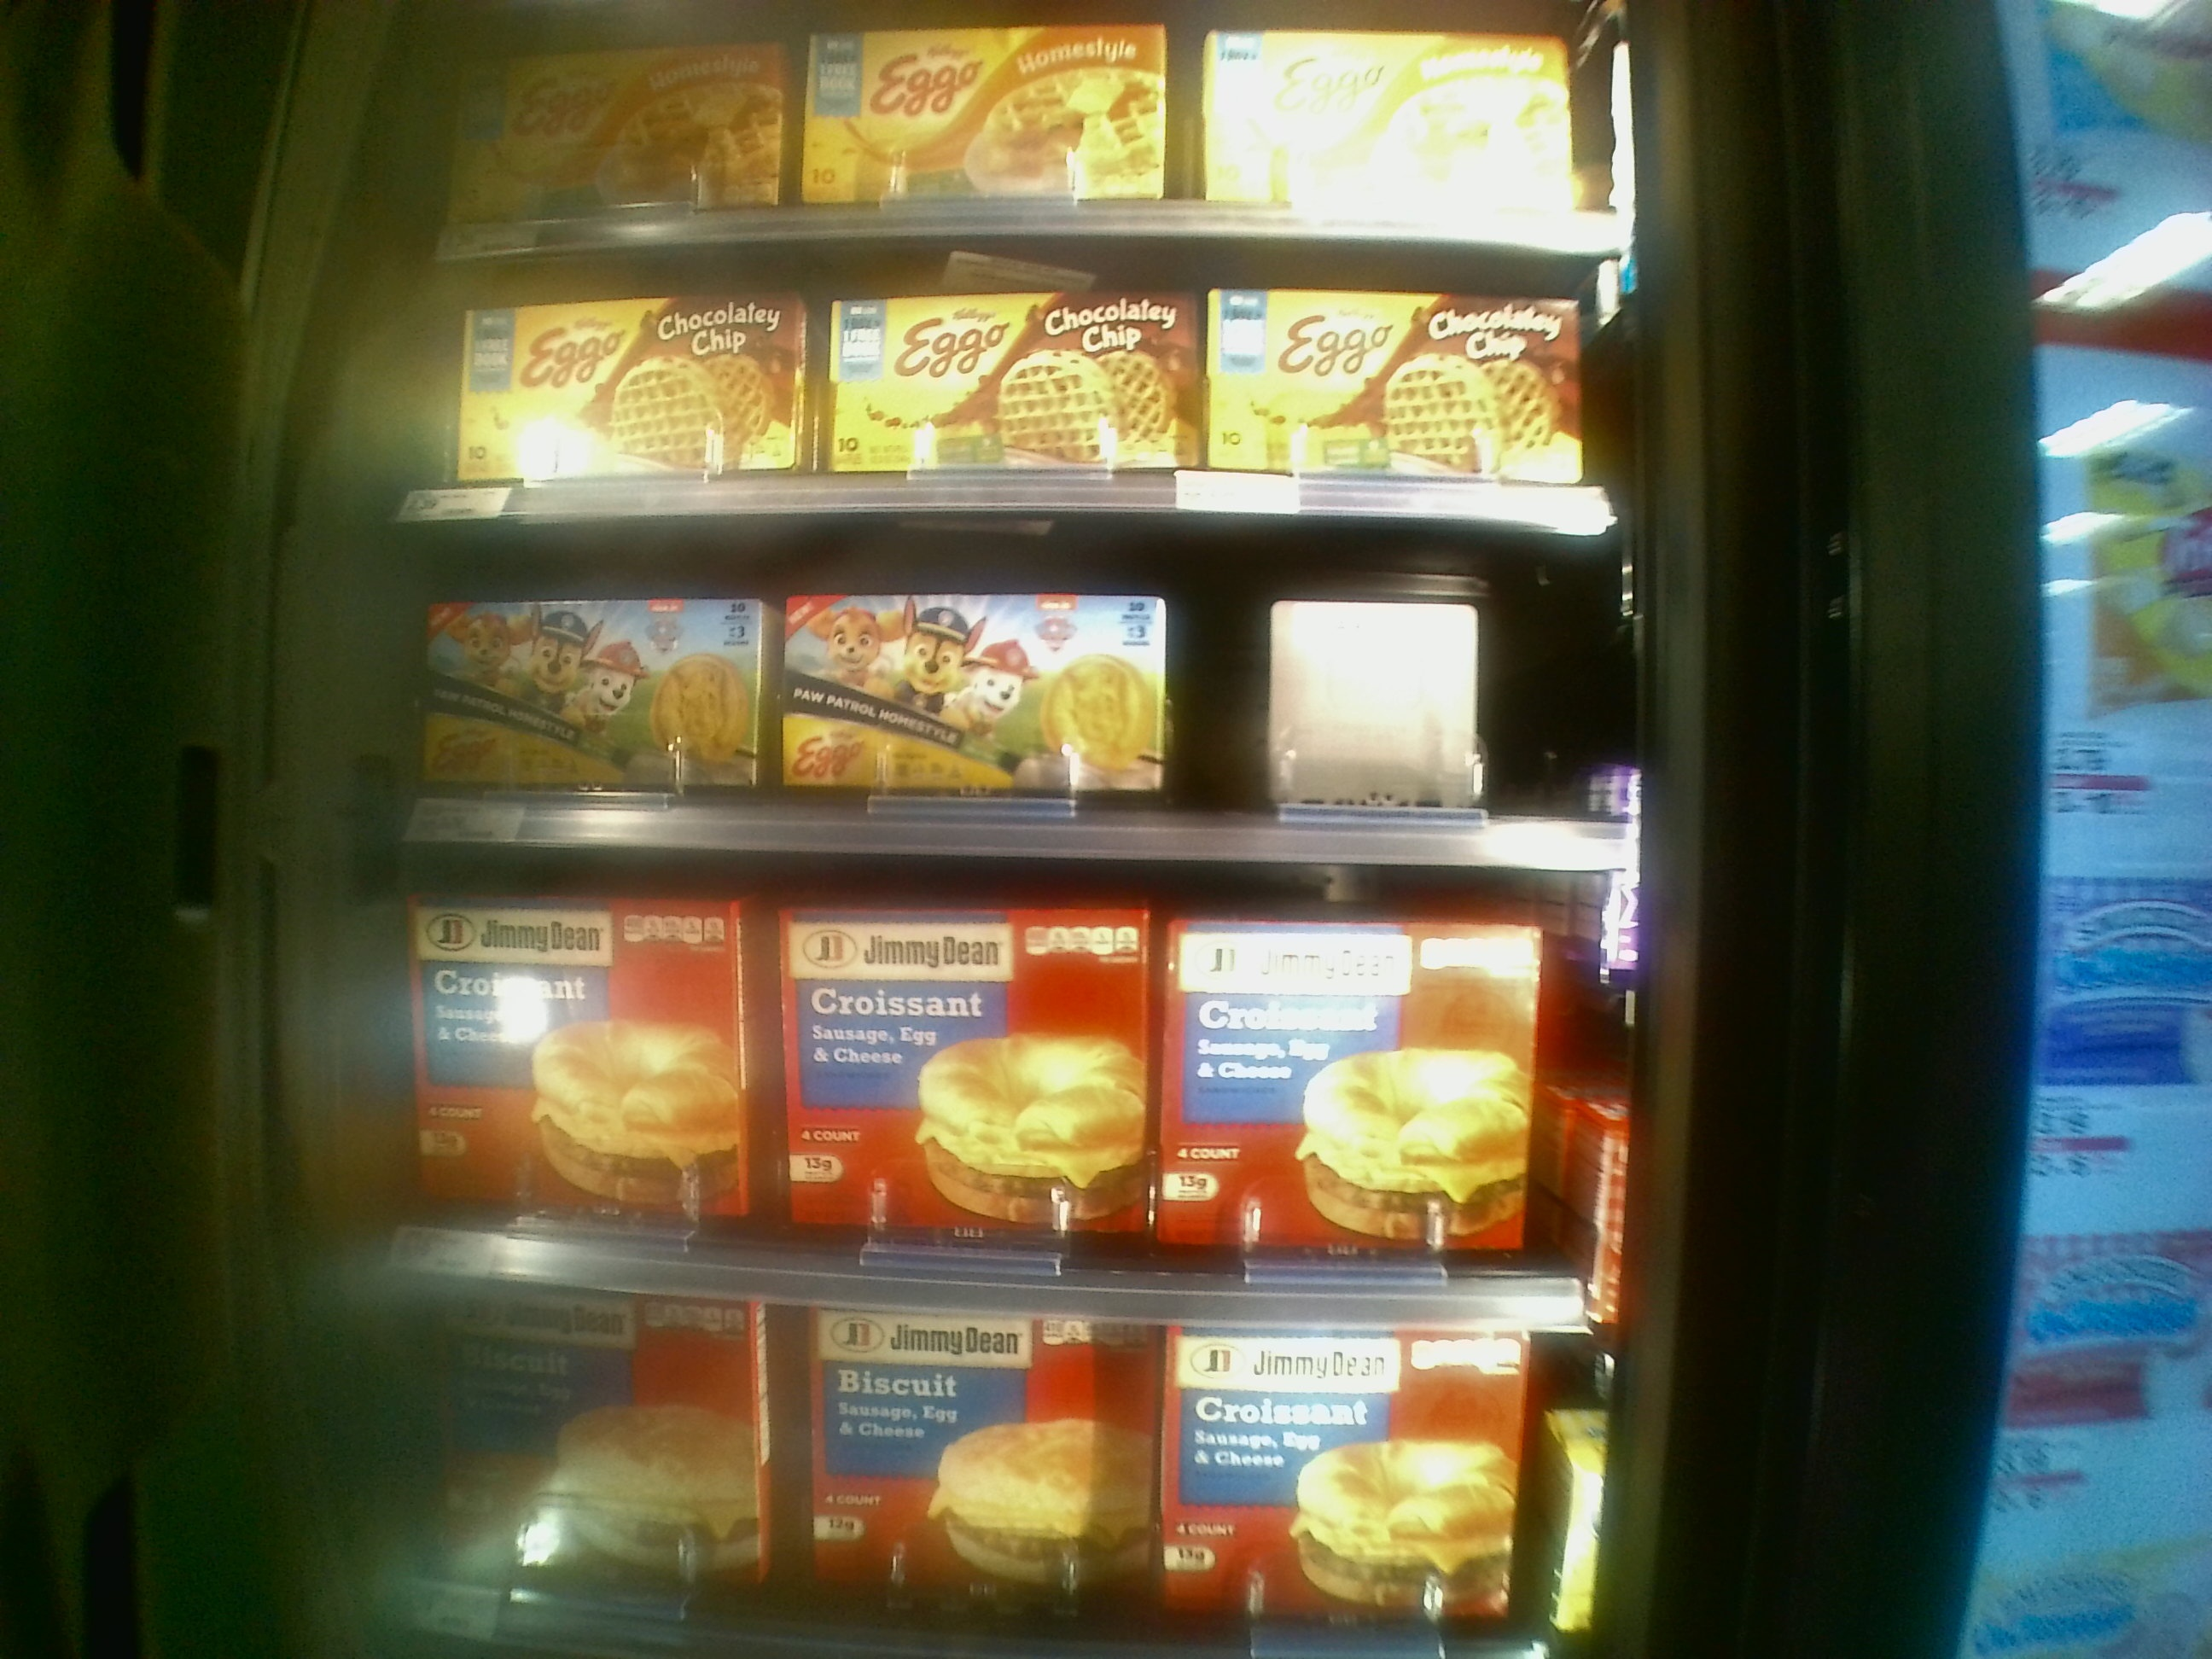frozen-food-shelf: (406, 505, 1611, 863)
